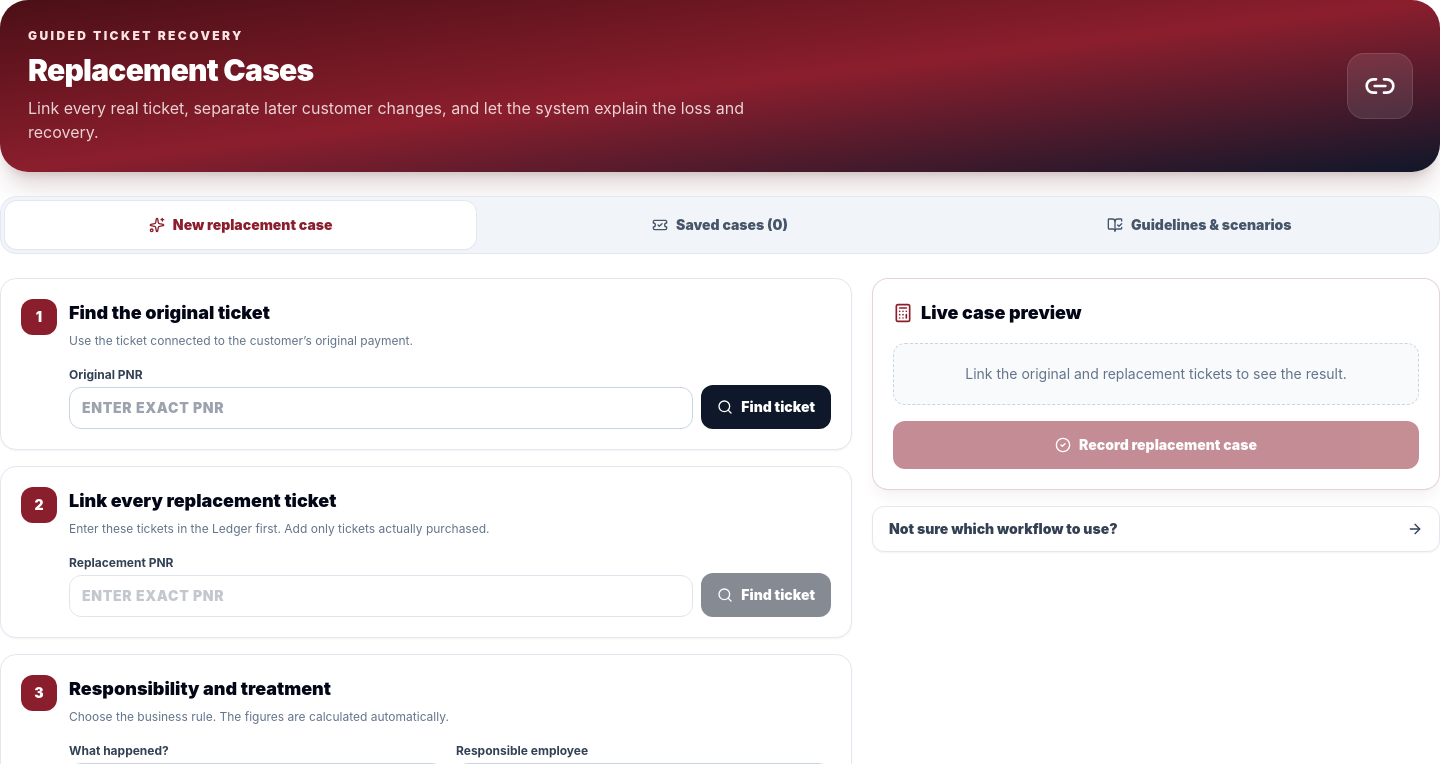
ReplacementCasesClient › offers guided entry, saved cases and searchable scenario guidance
This screenshot has width=1440, height=764.
Check: the heading "Replacement Cases" is shown, box x1=28 y1=52 x2=313 y2=88
Check: the button "New replacement case" is shown, box x1=5 y1=201 x2=476 y2=249
Click the button "Guidelines & scenarios".
click(1199, 225)  # box x1=964 y1=201 x2=1435 y2=249
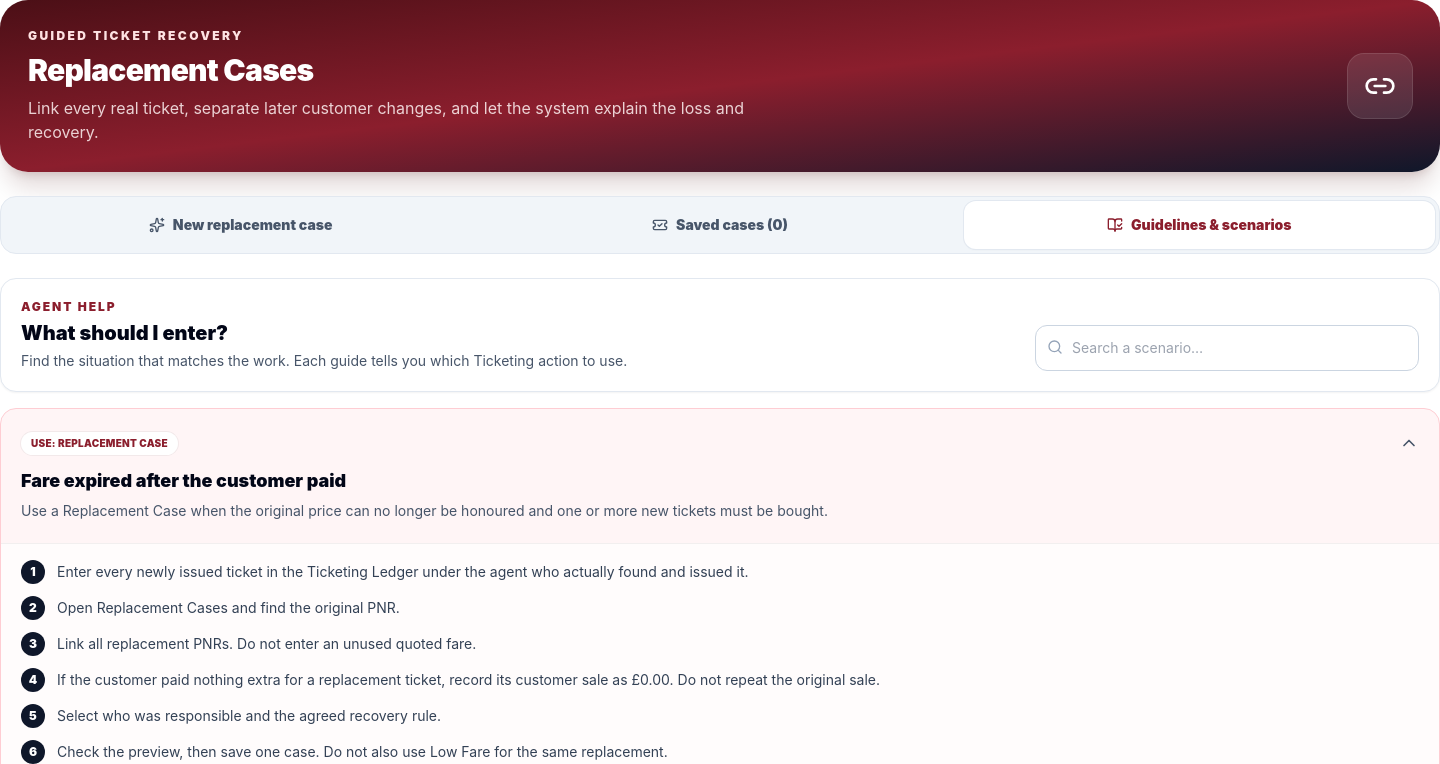
Check: the heading "What should I enter?" is shown, box x1=21 y1=321 x2=228 y2=345
Check: the heading "Fare expired after the customer paid" is shown, box x1=21 y1=470 x2=346 y2=491
Type "ordinary date change" into the field named "Search scenarios".
click(1227, 348); type("ordinary date change")  # box x1=1035 y1=325 x2=1419 y2=371
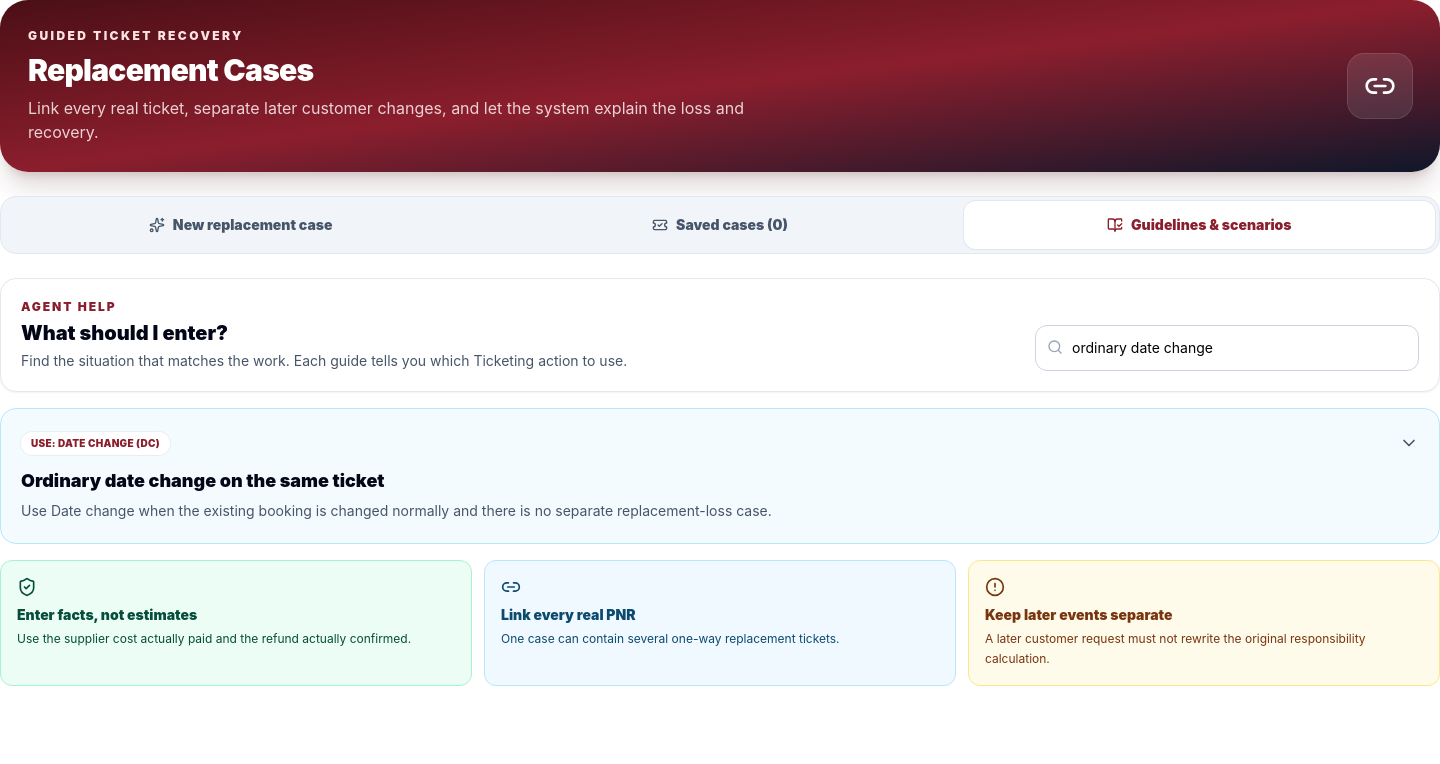
Check: the heading "Ordinary date change on the same ticket" is shown, box x1=21 y1=470 x2=384 y2=491
Check: the button "Fare expired after the customer paid" is gone
